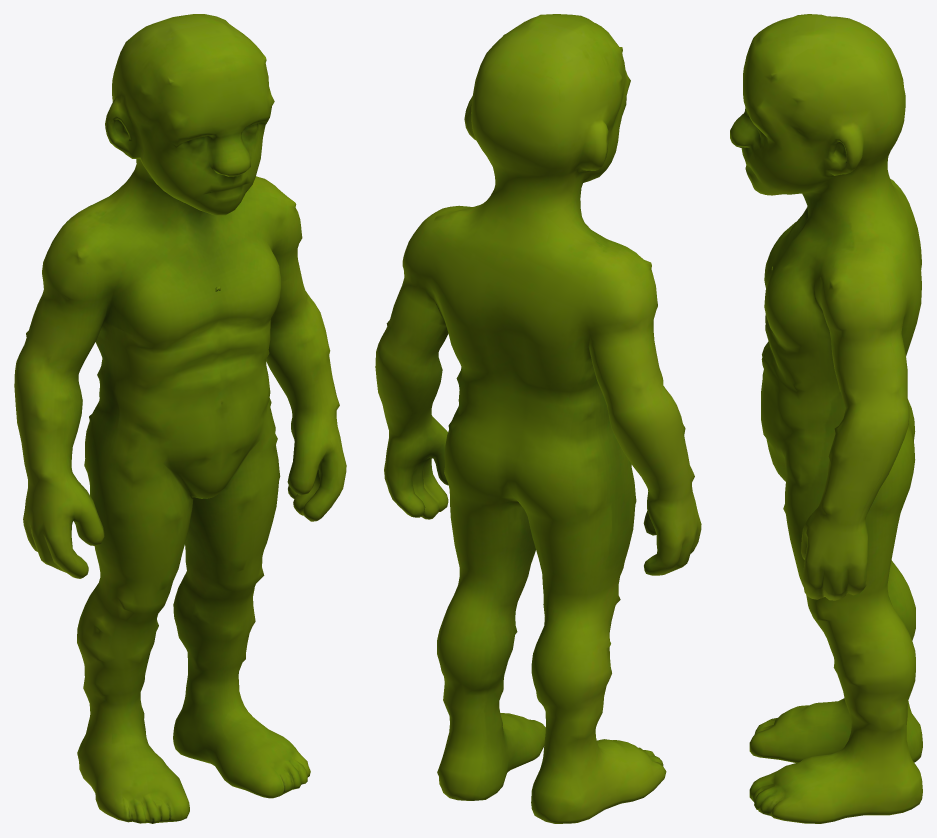
File: moss-covered_662421af_v3.glb
3 renders of one model, left to right at view 1: azimuth 30°, elevation 25°; view 2: azimuth 150°, elevation 25°; view 3: azimuth 270°, elevation 25°, orthographic.
Parts seen in each view (by area): view 1: material; view 2: material; view 3: material.
Boxes of the visible parts, x1,y1,x2,y2 form: material: (14,14,346,823); material: (375,14,701,823); material: (730,14,922,823).
Bounding box in the file's own units: 0.7948 × 1.9 × 0.4393.
1 material, 1 textured.
